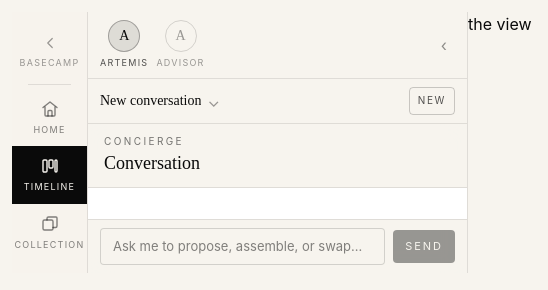
ItineraryShell · concierge collapse (Q5) › collapses the ≥1100px column to an edge tab and reopens
Click the button with test id "concierge-collapse". click: point(444, 45)
box: [433,31,455,59]
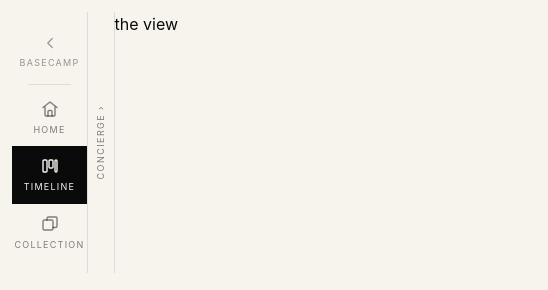
Click the button with test id "concierge-reopen". click: point(101, 142)
box: [88,12,114,273]
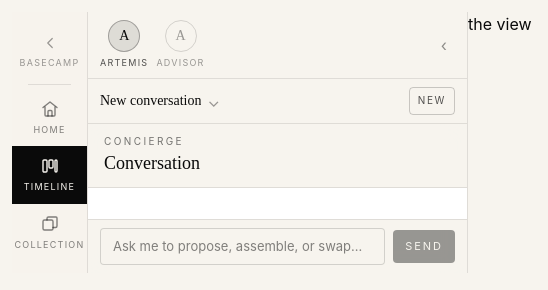
Check: the button with test id "concierge-reopen" is gone
